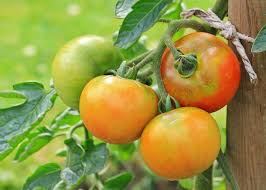stems: (154, 69, 174, 113), (125, 52, 154, 80), (164, 37, 189, 68)
tomato: (159, 31, 241, 113), (139, 106, 220, 180), (78, 75, 159, 145), (51, 35, 125, 110)
